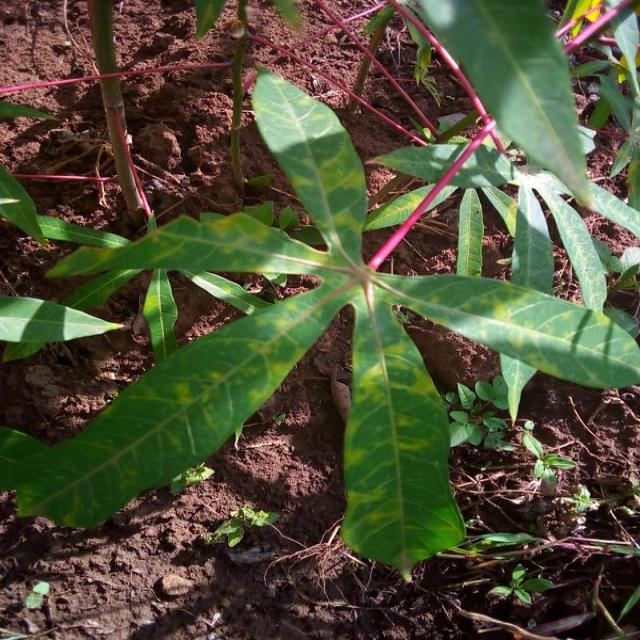cassava leaf: (2, 64, 639, 579), (340, 288, 467, 582), (414, 0, 594, 207)
